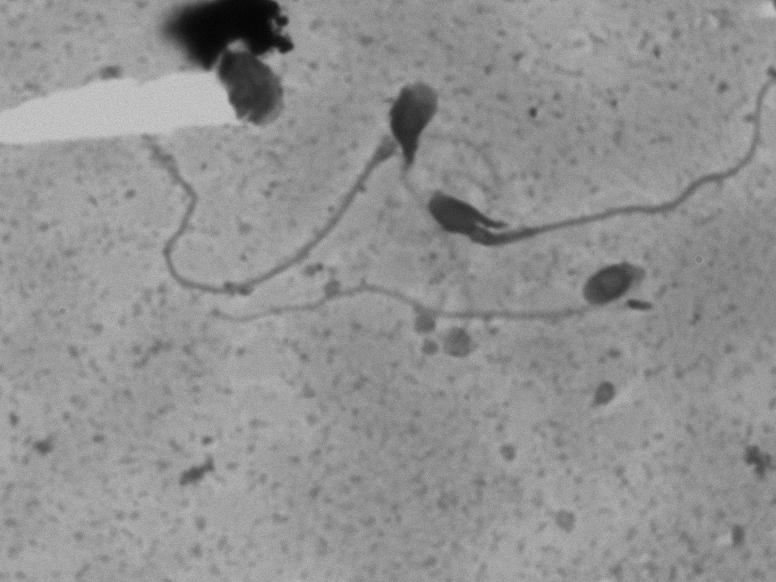Abnormal: (418, 68, 774, 263), (199, 230, 684, 363)
